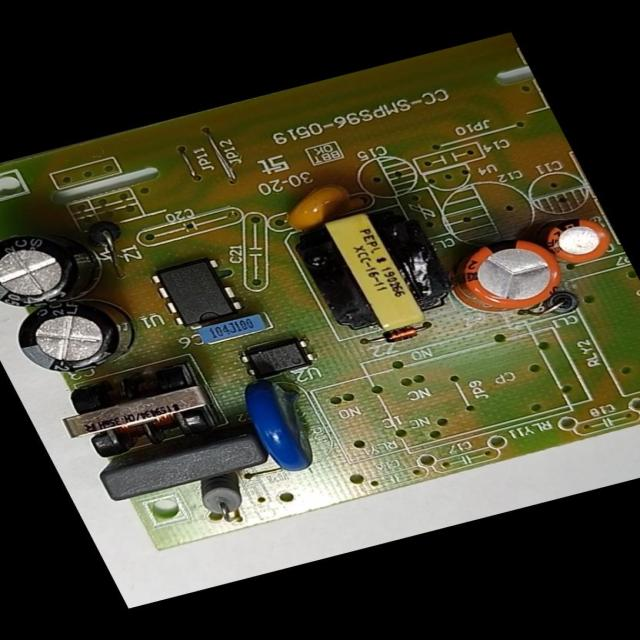Cap1: (432, 226, 580, 326)
Cap2: (525, 209, 623, 275)
Cap3: (1, 288, 161, 392)
Cap4: (0, 213, 121, 323)
MOSFET: (143, 250, 250, 335)
Mov: (225, 368, 338, 481)
Resistor: (189, 472, 265, 529)
Transformer: (274, 193, 468, 346), (41, 353, 230, 469)
